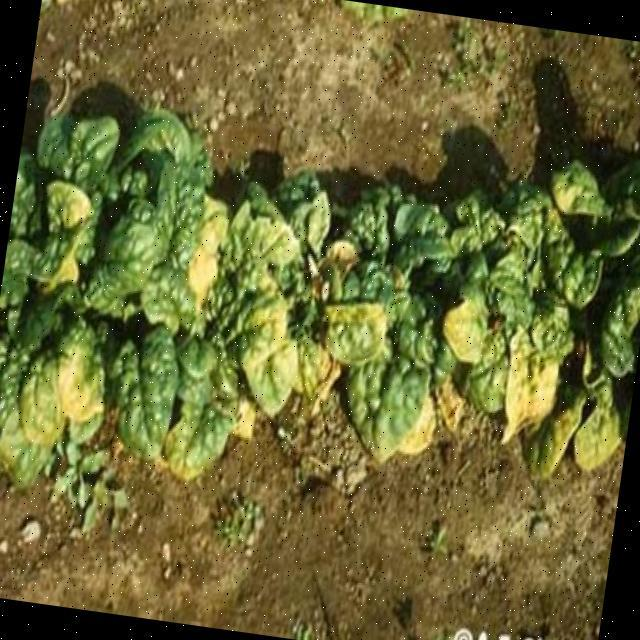Lettuce Mosaic Virus: (9, 173, 195, 425), (443, 223, 605, 438), (214, 206, 373, 415)
